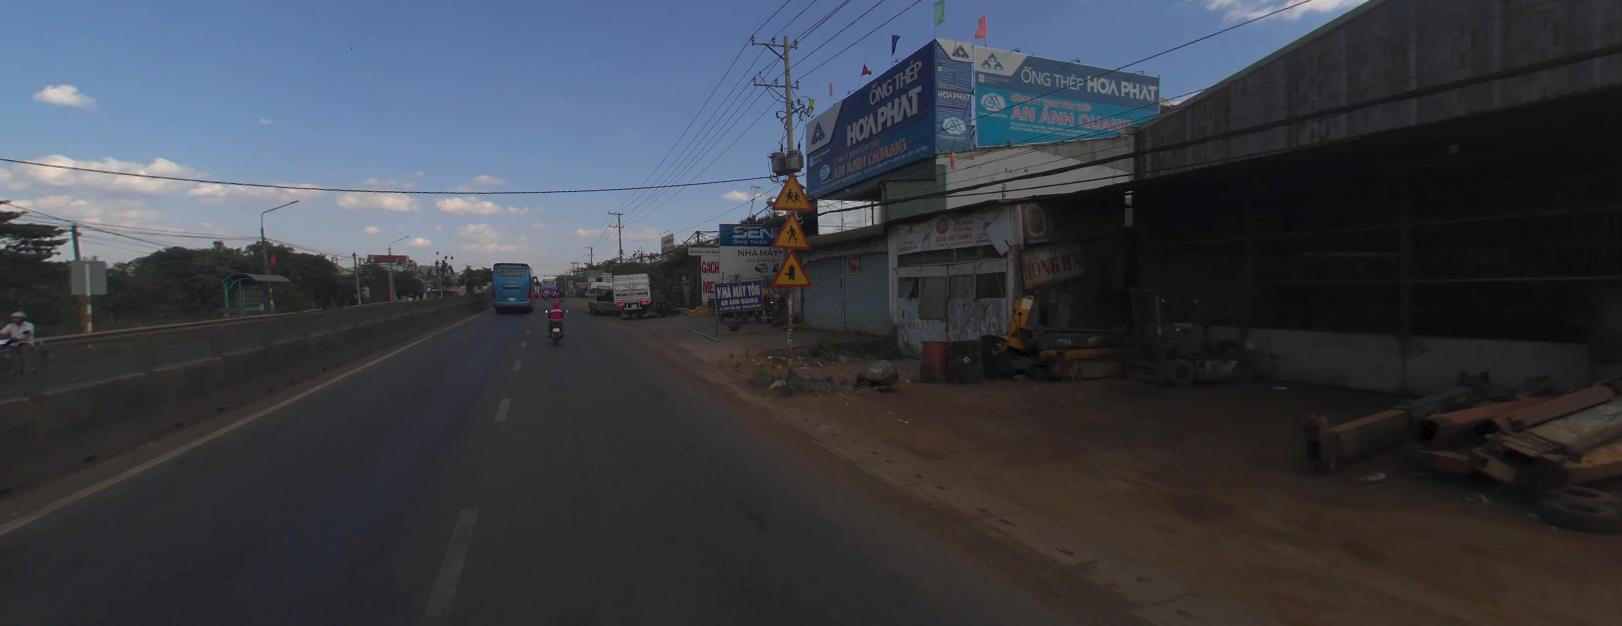Nguy hiem: (772, 172, 812, 209), (773, 248, 812, 285), (773, 210, 811, 246)
